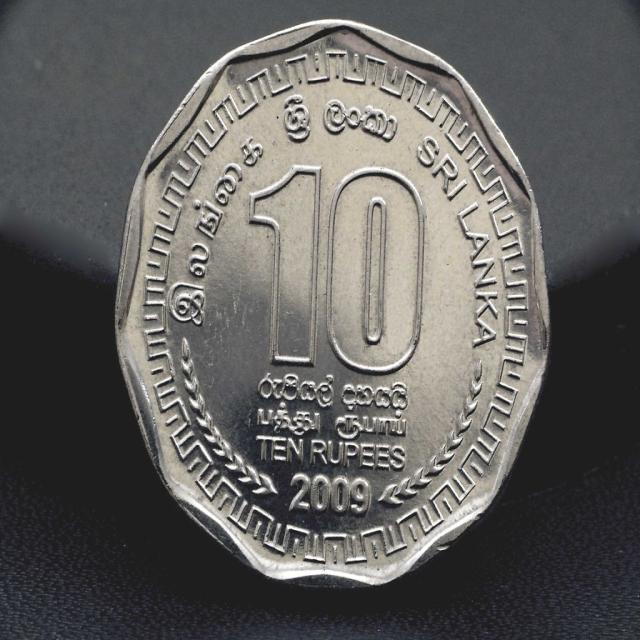Coin: (112, 19, 550, 580)
